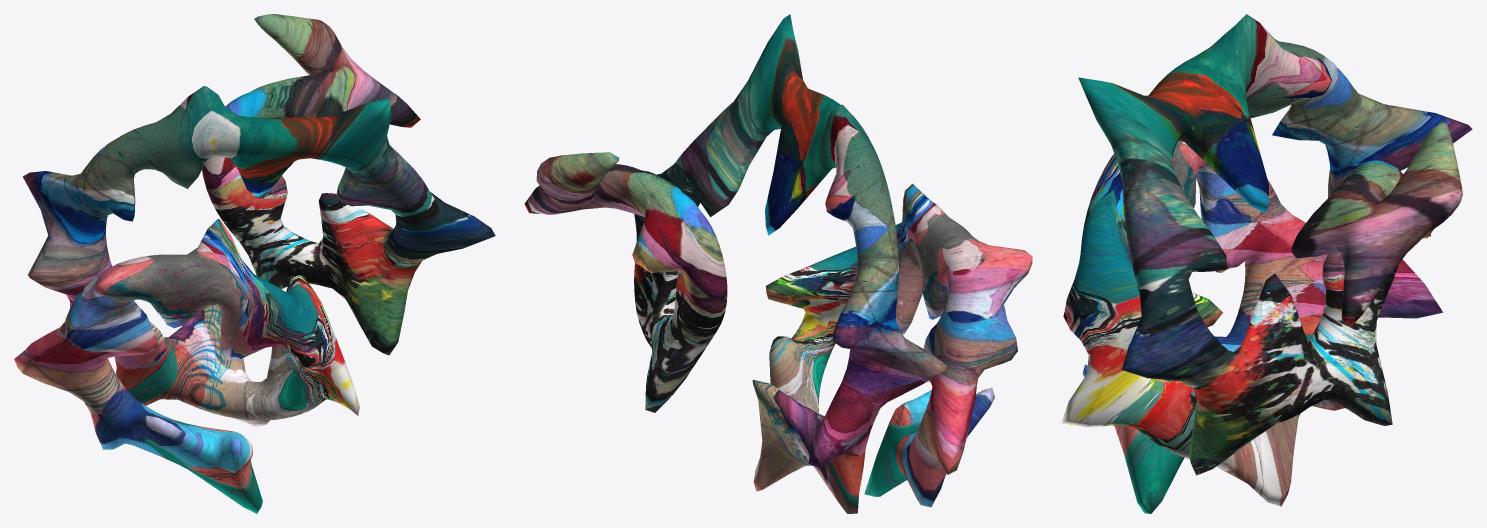
The model's file is spiral01_texture.glb.
The picture shows the model from 3 angles, left to right: view 1: azimuth 30°, elevation 25°; view 2: azimuth 150°, elevation 25°; view 3: azimuth 270°, elevation 25°; orthographic projection. The views are drawn at different scales.
Visible parts, largest first — view 1: splendour_2.005; view 2: splendour_2.005; view 3: splendour_2.005.
Boxes of the visible parts, <box> form: splendour_2.005: <box>14,14,495,513</box>; splendour_2.005: <box>524,14,1032,513</box>; splendour_2.005: <box>1061,14,1472,513</box>.
Bounding box in the file's own units: 1.07 × 1.02 × 0.7622.
Materials: 1 (1 with a texture image).
